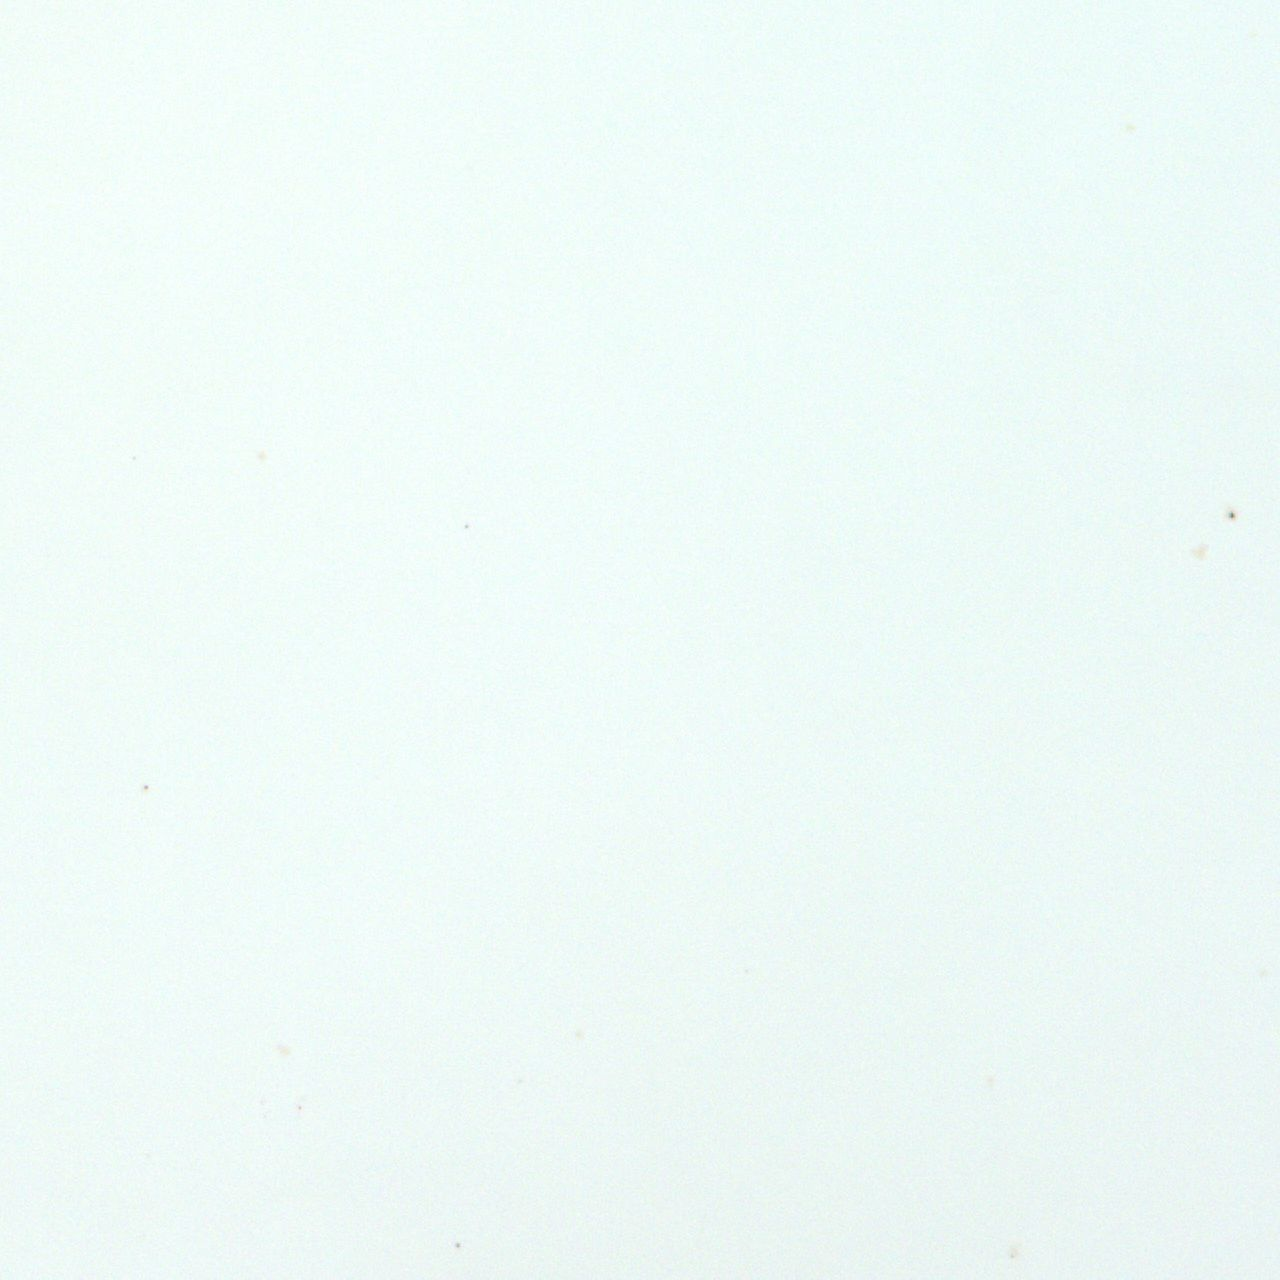dust: (1191, 543, 1210, 561), (1227, 509, 1238, 520), (141, 782, 150, 794), (463, 522, 470, 530)
